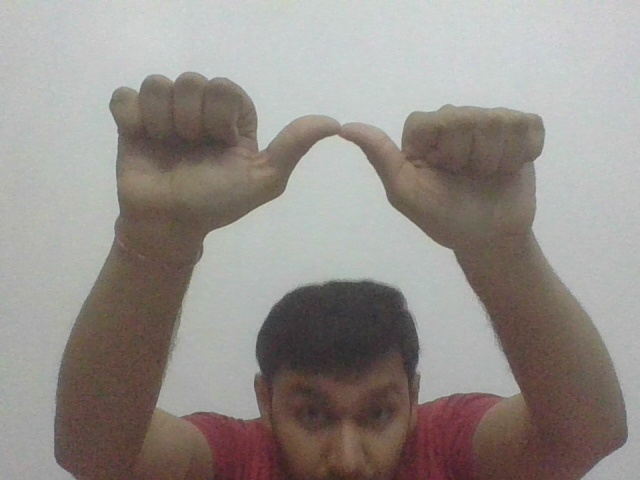A: (99, 74, 548, 242)
